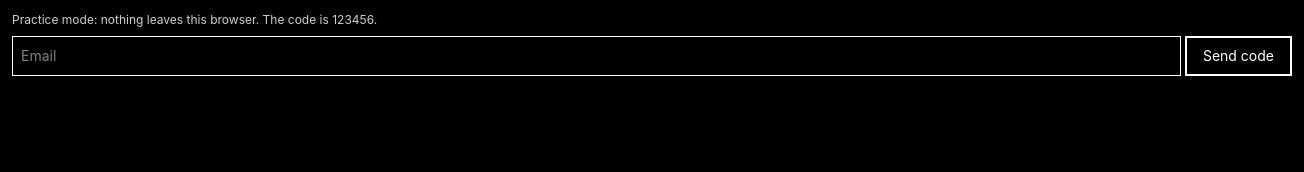
Scenario: the account panel › signing in uploads the guest's history, marks the state signed in, and says everything is saved
Type "ren@example.com" into the field labelled "Email" at (596, 56), box [12,36,1181,76]
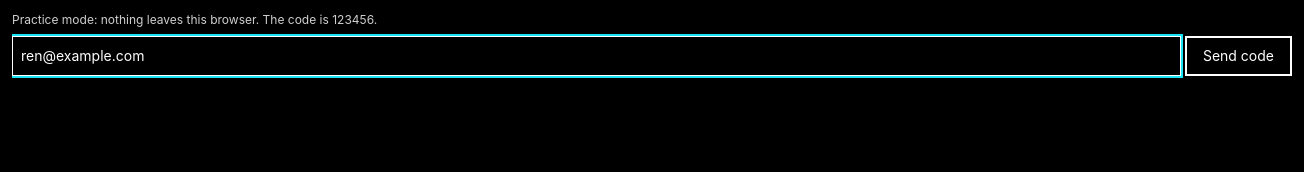
Click the button "Send code" at (1238, 56), box [1185,36,1292,76]
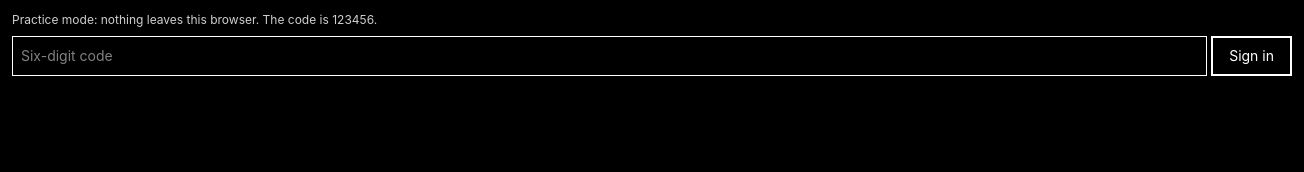
Type "123456" into the field labelled "Six-digit code" at (610, 56), box [12,36,1207,76]
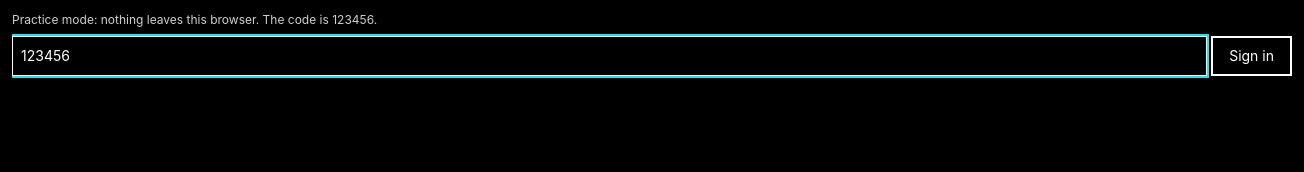
Click the button "Sign in" at (1252, 56), box [1211,36,1292,76]
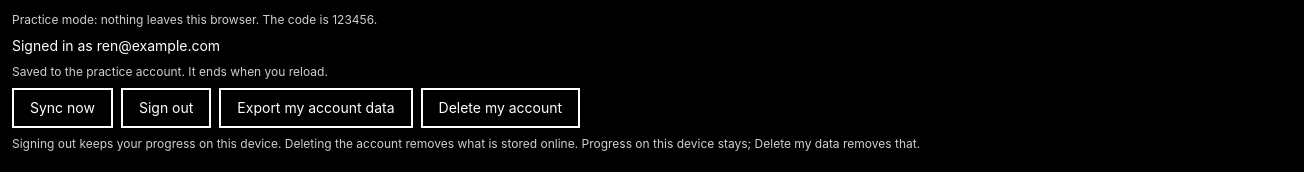
Expected: the message reads "Saved to the practice account. It ends when you reload.", [12,64,328,79]
